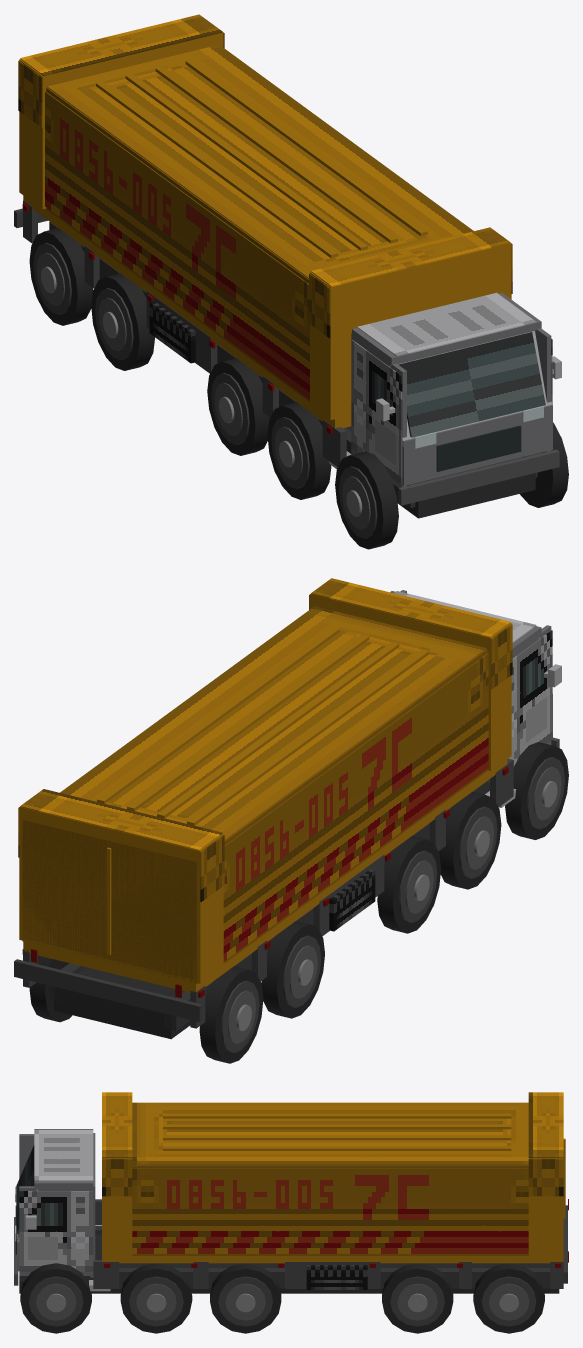
The model's file is CMU3DRMCPropVehicleLongTruckMining.glb.
3 renders of one model, top to bottom at view 1: azimuth 30°, elevation 25°; view 2: azimuth 150°, elevation 25°; view 3: azimuth 270°, elevation 25°, orthographic. The views are drawn at different scales.
Visible parts, largest first — view 1: original corrugated roof 1, original corrugated roof 0, original cargo markings -1 1, original cargo markings -1 0, cargo end band 0, sloped windshield, original vented cab roof, original cab side -1, cargo end band 1, original end band roof 1, cab lower front, original end band roof 0 (+34 smaller); view 2: closed corrugated cargo body, original corrugated roof 0, original cargo markings -1 1, cargo end band 1, original corrugated roof 1, original cargo markings -1 0, cargo underframe, original end band roof 1, cargo end band 0, original cab side -1, original end band roof 0, long ladder chassis (+29 smaller); view 3: original cargo markings 1 0, original cargo markings 1 1, original corrugated roof 0, original corrugated roof 1, original cab side 1, cargo underframe, original vented cab roof, closed corrugated cargo body, original end band roof 1, long ladder chassis, cargo end band 1, raised longitudinal roof rib 0 (+35 smaller).
Boxes of the visible parts, x1,y1,x2,y2 form: original corrugated roof 1: (47,44,347,181); original corrugated roof 0: (176,139,473,278); original cargo markings -1 1: (174,186,309,399); original cargo markings -1 0: (45,91,174,300); cargo end band 0: (310,243,511,419); sloped windshield: (398,332,545,437); original vented cab roof: (357,292,536,356); original cab side -1: (351,339,402,484); cargo end band 1: (19,32,223,209); original end band roof 1: (20,14,222,76); cab lower front: (402,404,552,485); original end band roof 0: (311,227,510,286); closed corrugated cargo body: (22,649,487,983); original corrugated roof 0: (177,606,486,749); original cargo markings -1 1: (350,653,488,868); cargo end band 1: (19,806,223,983); original corrugated roof 1: (60,707,348,840); original cargo markings -1 0: (223,754,350,961); cargo underframe: (23,759,507,992); original end band roof 1: (20,789,222,850); cargo end band 0: (310,594,511,770); original cab side -1: (508,630,552,766); original end band roof 0: (311,578,510,637); long ladder chassis: (54,967,190,1039); original cargo markings 1 0: (132,1168,336,1253); original cargo markings 1 1: (337,1168,528,1253); original corrugated roof 0: (132,1102,336,1165); original corrugated roof 1: (337,1102,528,1165); original cab side 1: (19,1191,93,1271); cargo underframe: (102,1256,563,1263); original vented cab roof: (34,1130,93,1181); closed corrugated cargo body: (132,1165,528,1255); original end band roof 1: (528,1092,563,1157); long ladder chassis: (19,1234,559,1293); cargo end band 1: (528,1158,563,1256); raised longitudinal roof rib 0: (163,1113,511,1118).
Size of the model in its own units: 1.21 by 1.39 by 3.98.
33 materials, 12 textured.
